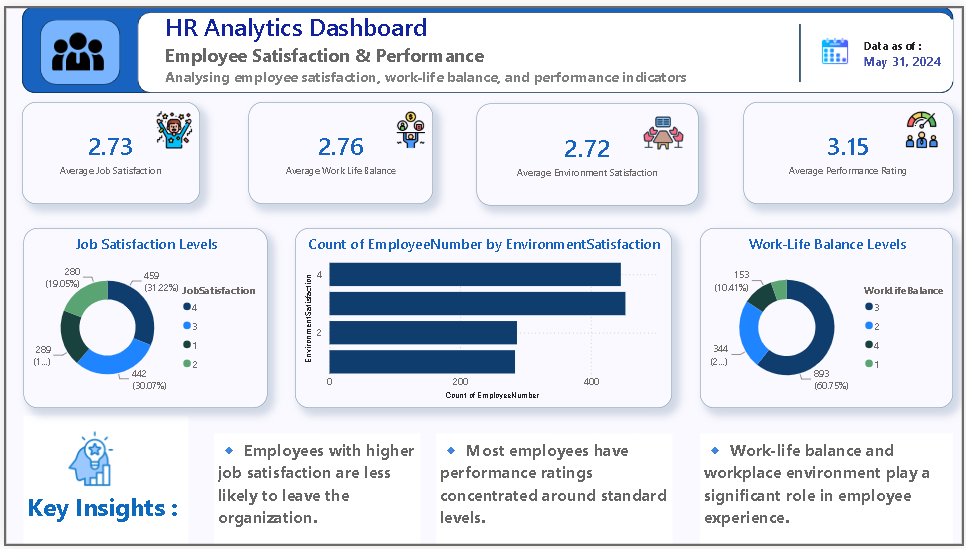

Layout of this report page (visuals, bound fields, positions):
{"tool":"powerbi","page":{"name":"Employee Performance & Satisfaction","canvas":[1280,720],"ordinal":3},"visuals":[{"type":"textbox","box":[25,545,220,175],"z":0},{"type":"shape","box":[24,0,1242,116],"z":1000},{"type":"shape","box":[178,8,1088,108],"z":2000},{"type":"textbox","box":[210,0,812,116],"z":3000},{"type":"shape","box":[48.6,18.6,107.1,87.1],"z":4000},{"type":"image","box":[48.9,24.4,101.1,73.3],"z":5000},{"type":"shape","box":[1022.9,24.3,78.6,77.1],"z":6000},{"type":"textbox","box":[1141.4,18.6,124.3,82.9],"z":7000},{"type":"image","box":[1088,38,40,44],"z":8000},{"type":"image","box":[73.3,560,83.3,86.7],"z":9000},{"type":"donutChart","title":"Job Satisfaction Levels","fields":{"Category":["HR_Analytics_Cleaned.JobSatisfaction"],"Y":["CountNonNull(HR_Analytics_Cleaned.EmployeeNumber)"]},"box":[25,295,325,240],"z":10000},{"type":"donutChart","title":"Work-Life Balance Levels","fields":{"Category":["HR_Analytics_Cleaned.WorkLifeBalance"],"Y":["CountNonNull(HR_Analytics_Cleaned.EmployeeNumber)"]},"box":[927.5,295,337.5,240],"z":11000},{"type":"cardVisual","fields":{"Data":["HR_Analytics_Cleaned.Avg Job Satisfaction"]},"box":[23.8,128.8,237.5,136.2],"z":12000},{"type":"cardVisual","fields":{"Data":["HR_Analytics_Cleaned.Average Work Life Balance"]},"box":[326.2,128.8,246.2,136.2],"z":13000},{"type":"cardVisual","fields":{"Data":["HR_Analytics_Cleaned.Average Environment Satisfaction"]},"box":[630,130,296.2,136.2],"z":14000},{"type":"cardVisual","fields":{"Data":["HR_Analytics_Cleaned.Average Performance Rating"]},"box":[986.2,128.8,280,136.2],"z":15000},{"type":"clusteredBarChart","fields":{"Category":["HR_Analytics_Cleaned.EnvironmentSatisfaction"],"Y":["CountNonNull(HR_Analytics_Cleaned.EmployeeNumber)"]},"box":[387.5,295,502.5,240],"z":16000},{"type":"textbox","box":[280,570,275,150],"z":17000},{"type":"textbox","box":[575,570,315,150],"z":18000},{"type":"textbox","box":[927.5,570,337.5,150],"z":19000},{"type":"image","box":[1182.9,140,82.9,50],"z":20000},{"type":"image","box":[511.4,140,60,50],"z":21000},{"type":"image","box":[191.4,140,70,50],"z":22000},{"type":"image","box":[841.4,140,74.3,58.6],"z":23000},{"type":"actionButton","box":[0,0,1280,720],"z":23001}]}

Visuals, with their boxes in screenshot pixels (x1, y1, x2, y2), scaled from the page's 1280x720 canvas onto the 966x549 screenshot:
textbox: bbox=[19, 416, 185, 548]
shape: bbox=[18, 0, 955, 88]
shape: bbox=[134, 6, 955, 88]
textbox: bbox=[158, 0, 771, 88]
shape: bbox=[37, 14, 118, 81]
image: bbox=[37, 19, 113, 74]
shape: bbox=[772, 19, 831, 77]
textbox: bbox=[861, 14, 955, 77]
image: bbox=[821, 29, 851, 63]
image: bbox=[55, 427, 118, 493]
"Job Satisfaction Levels" donutChart: bbox=[19, 225, 264, 408]
"Work-Life Balance Levels" donutChart: bbox=[700, 225, 955, 408]
cardVisual - HR_Analytics_Cleaned.Avg Job Satisfaction: bbox=[18, 98, 197, 202]
cardVisual - HR_Analytics_Cleaned.Average Work Life Balance: bbox=[246, 98, 432, 202]
cardVisual - HR_Analytics_Cleaned.Average Environment Satisfaction: bbox=[475, 99, 699, 203]
cardVisual - HR_Analytics_Cleaned.Average Performance Rating: bbox=[744, 98, 956, 202]
clusteredBarChart - HR_Analytics_Cleaned.EnvironmentSatisfaction x CountNonNull(HR_Analytics_Cleaned.EmployeeNumber): bbox=[292, 225, 672, 408]
textbox: bbox=[211, 435, 419, 548]
textbox: bbox=[434, 435, 672, 548]
textbox: bbox=[700, 435, 955, 548]
image: bbox=[893, 107, 955, 145]
image: bbox=[386, 107, 431, 145]
image: bbox=[144, 107, 197, 145]
image: bbox=[635, 107, 691, 151]
actionButton: bbox=[0, 0, 965, 548]
